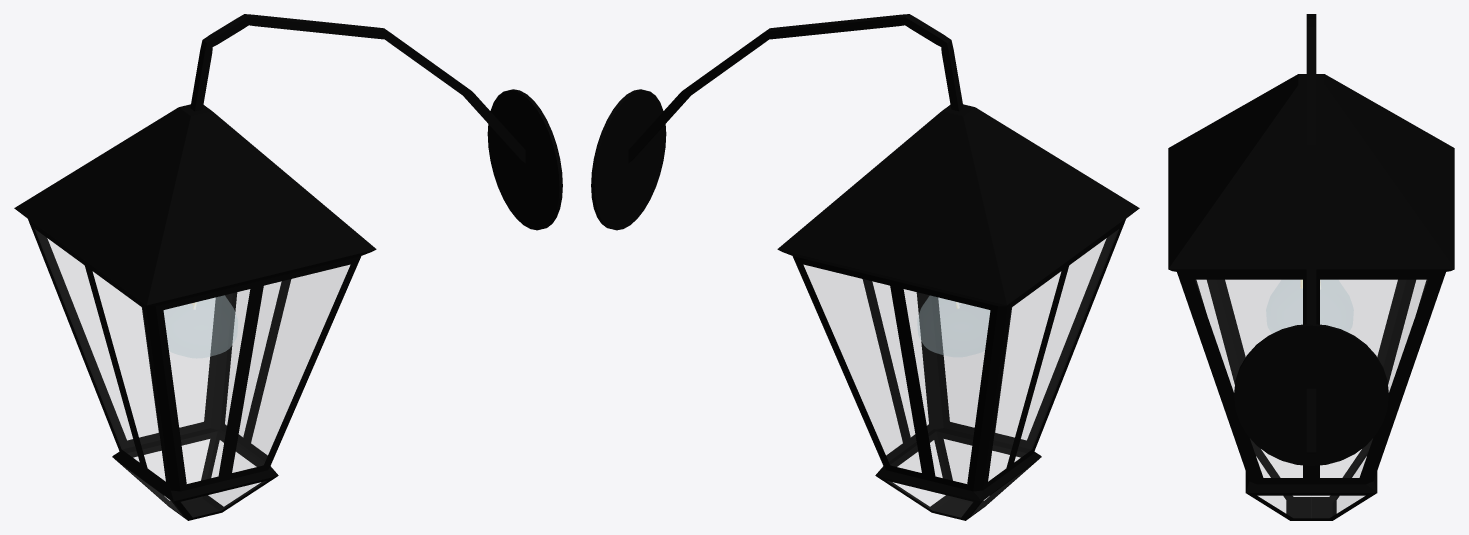
The model's file is juniper_light.glb.
3 renders of one model, left to right at view 1: azimuth 30°, elevation 25°; view 2: azimuth 150°, elevation 25°; view 3: azimuth 270°, elevation 25°, orthographic. The views are drawn at different scales.
Parts seen in each view (by area): view 1: Cylinder, Cylinder.001; view 2: Cylinder, Cylinder.001; view 3: Cylinder, Cylinder.001.
Part boxes in pixels (box(x1,y1,x2,y2)): Cylinder: box(14, 14, 562, 520); Cylinder.001: box(164, 295, 237, 358); Cylinder: box(591, 14, 1139, 520); Cylinder.001: box(917, 296, 989, 356); Cylinder: box(1168, 14, 1454, 520); Cylinder.001: box(1266, 280, 1353, 333).
Size of the model in its own units: 0.4368 by 0.4199 by 0.2098.
4 materials, 1 textured.
